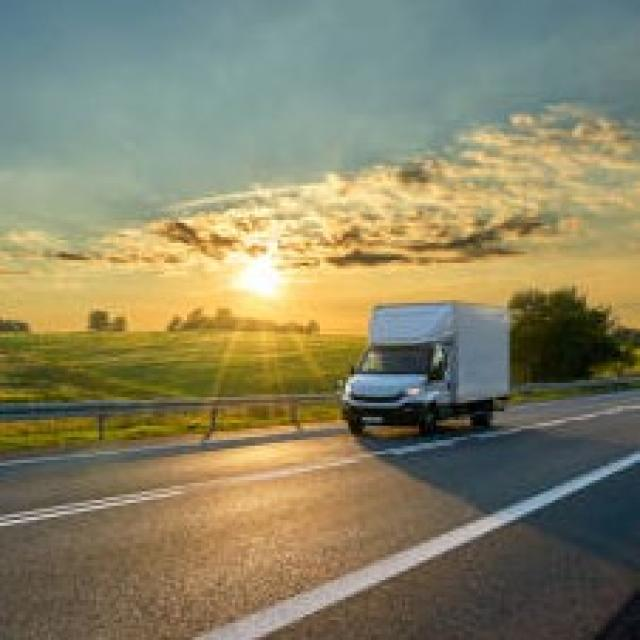truck: (336, 301, 513, 436)
